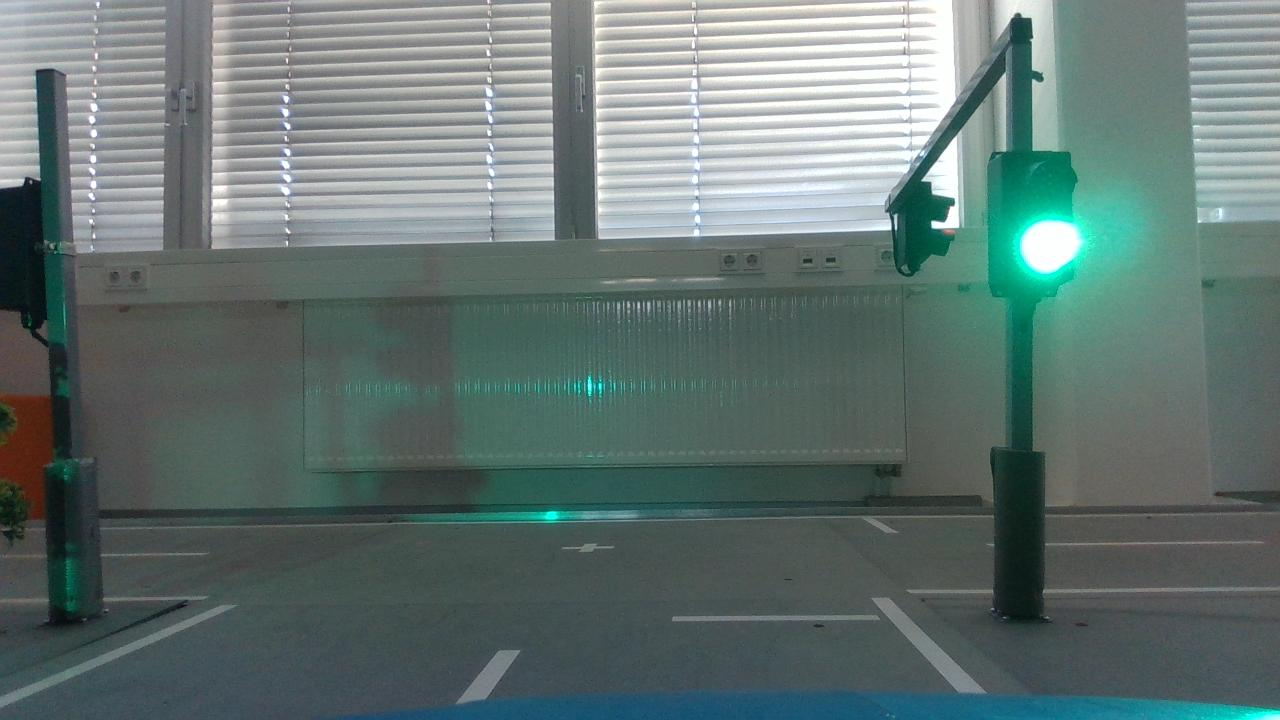traffic_light_green: (978, 140, 1090, 302)
